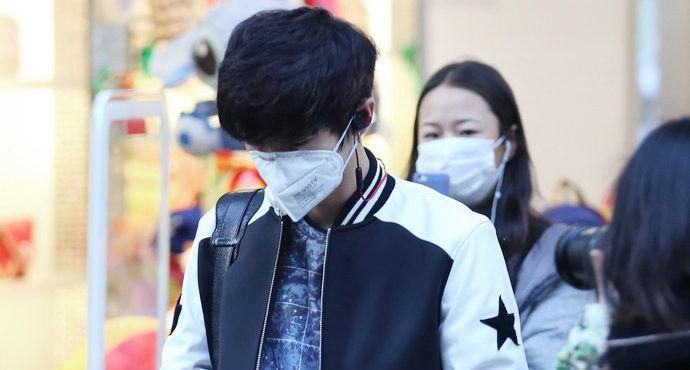OK: (244, 117, 357, 212), (414, 115, 502, 203)
